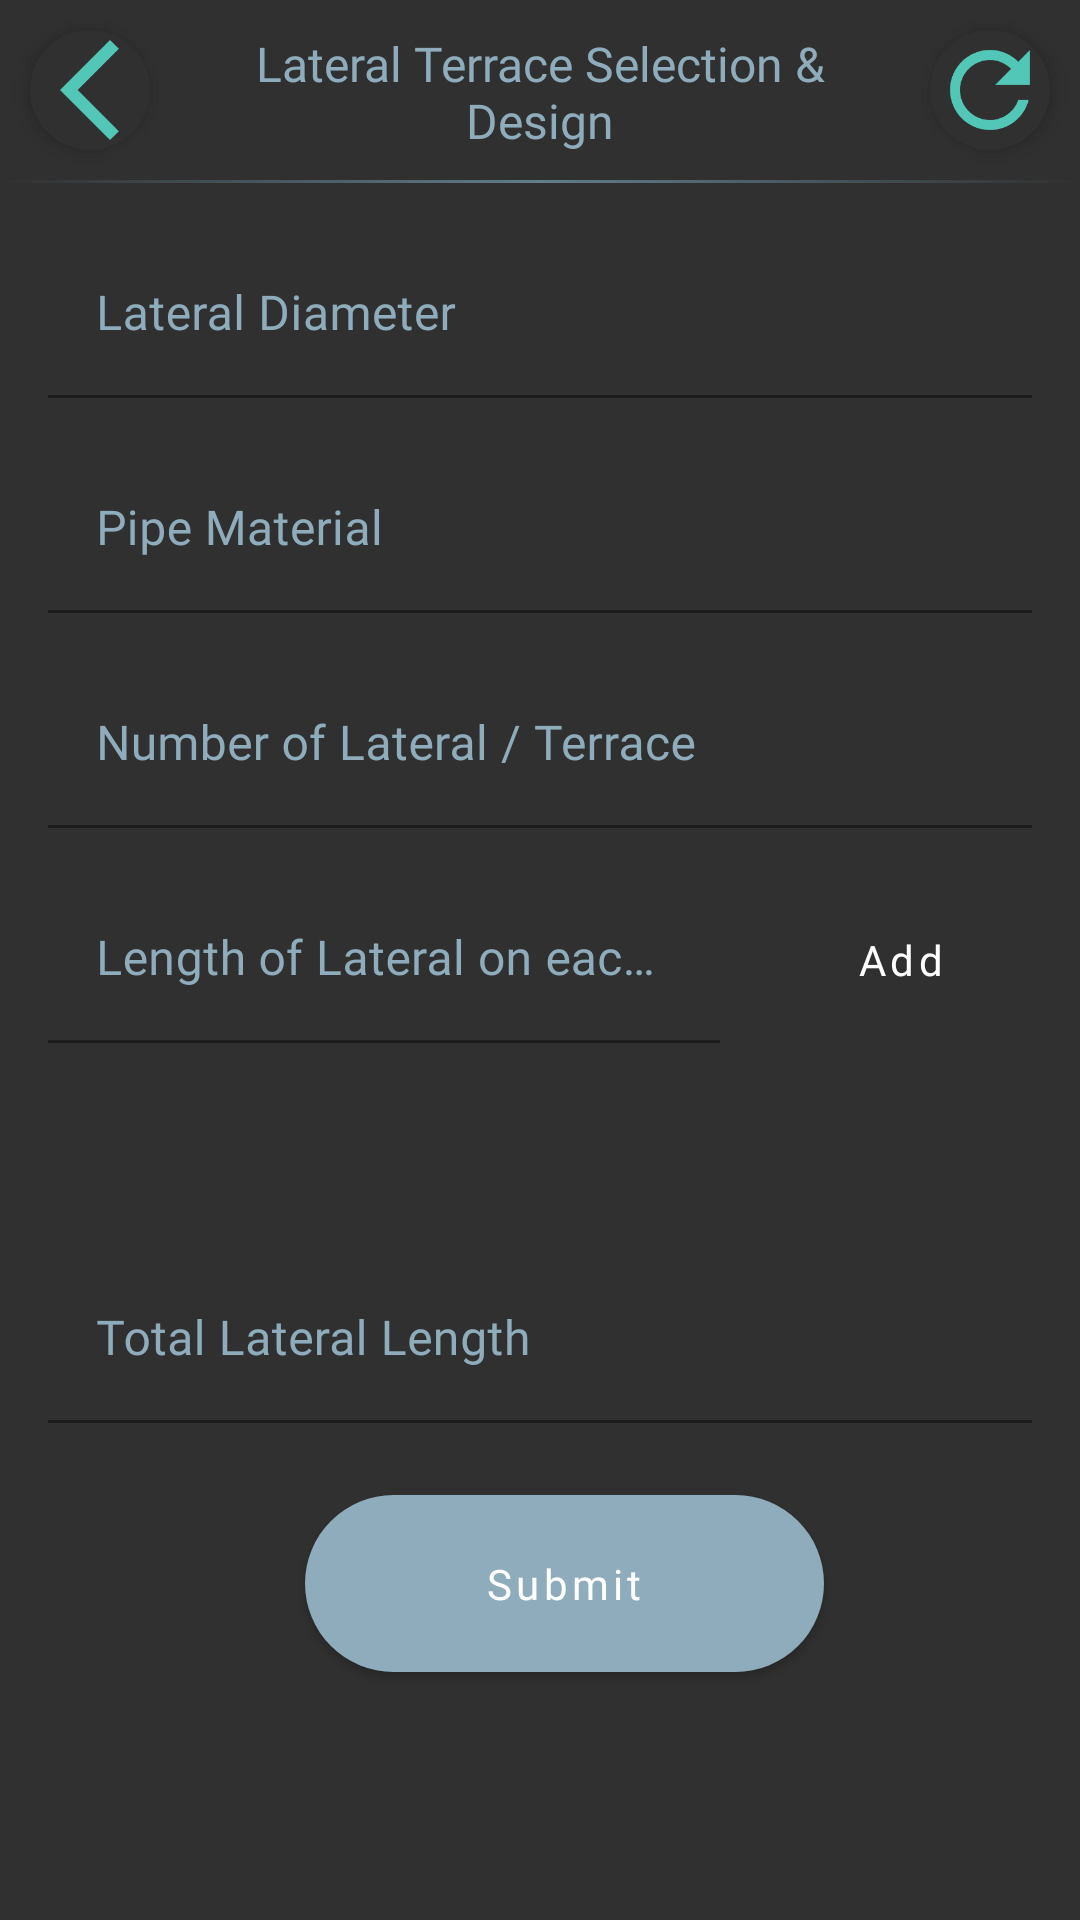

Icon bounding boxes for this 1080×1920 phone screenshot, format (x1, y1, x2, y2):
Back: (60, 40, 119, 140)
Reset: (950, 50, 1030, 130)
